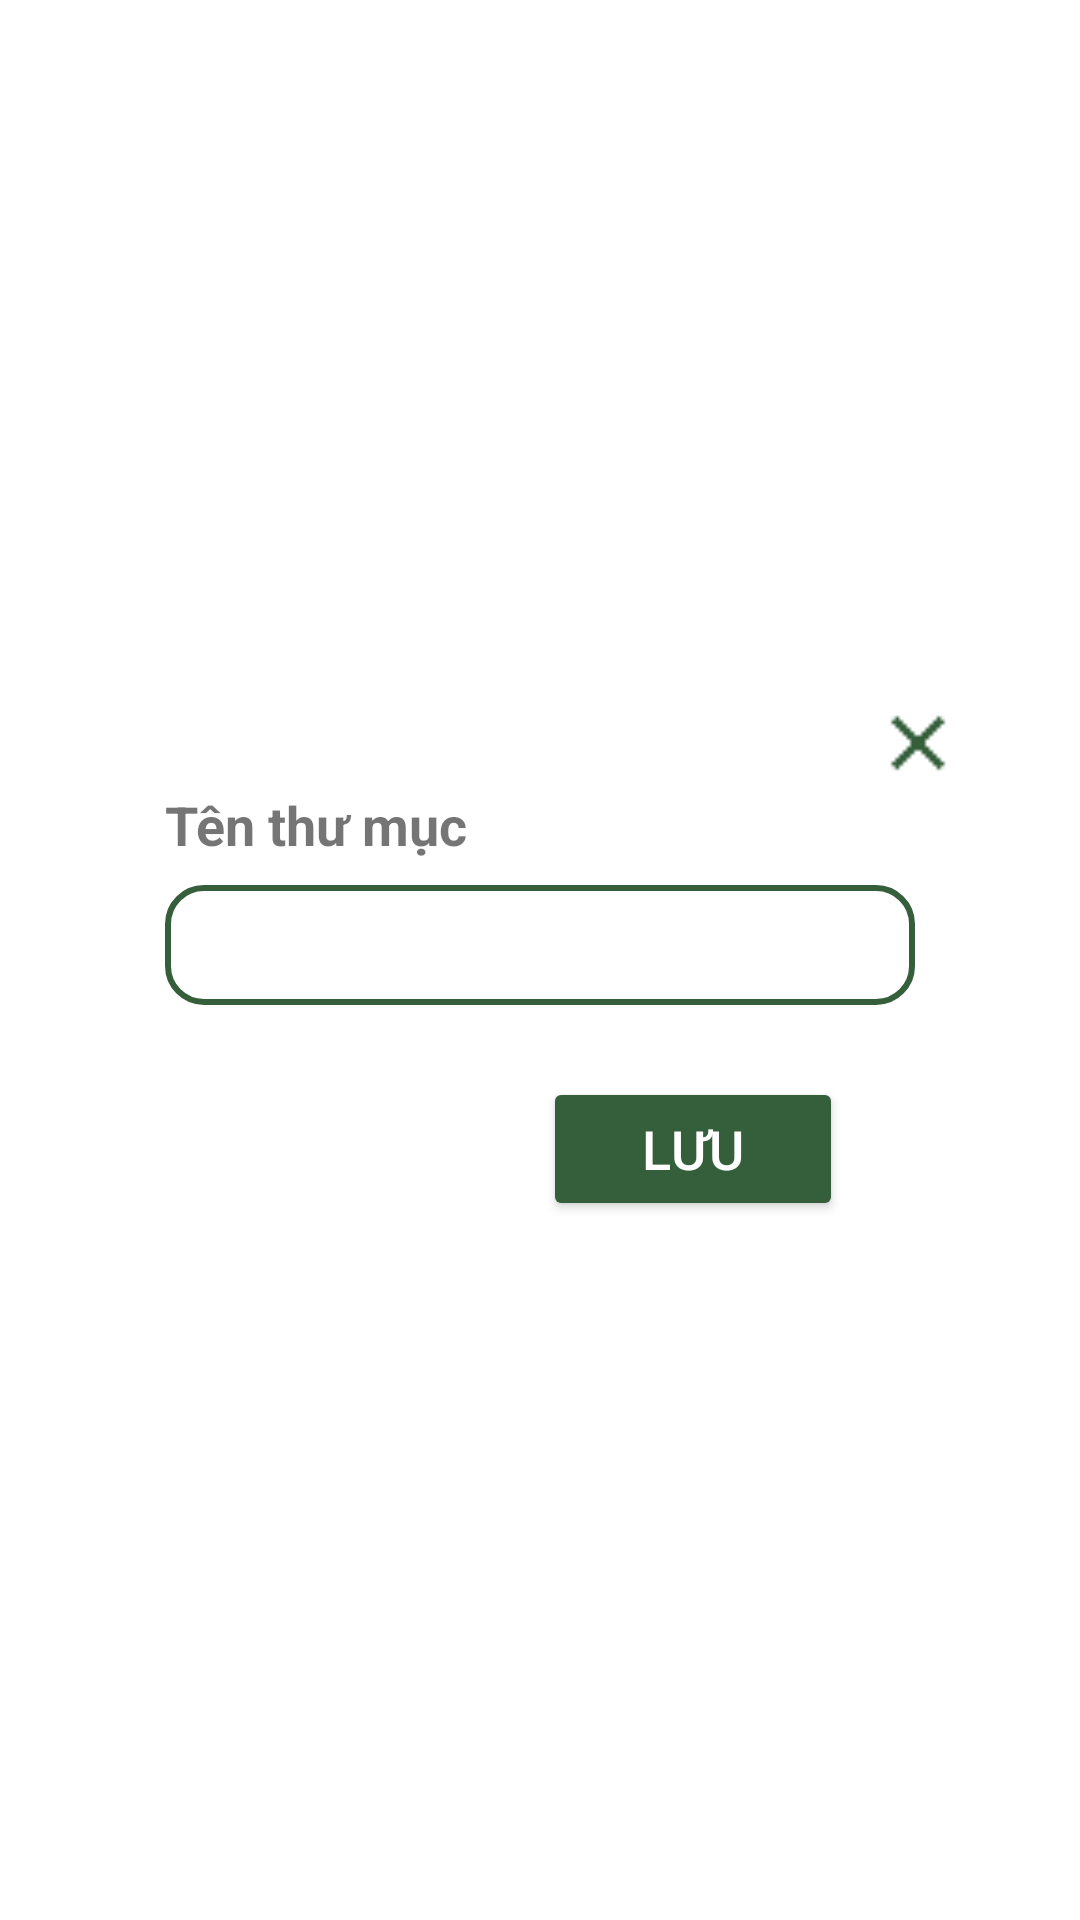

Icons on this 1080px×1920px Android screen, each with its box as (x1, y1, x2, y2):
close: (890, 715, 946, 771)
